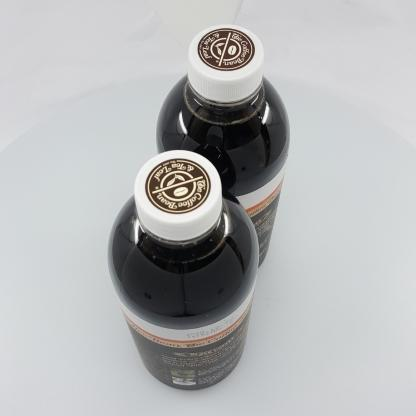--------: (108, 150, 260, 390)
